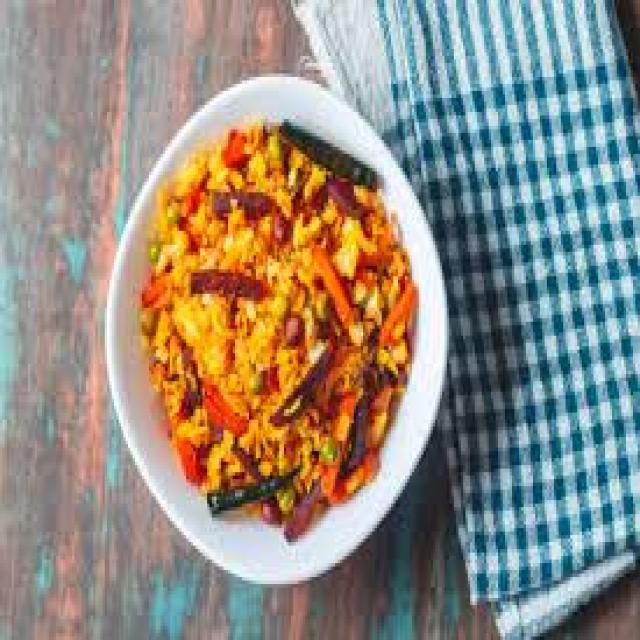UPMA: (135, 122, 412, 507)
